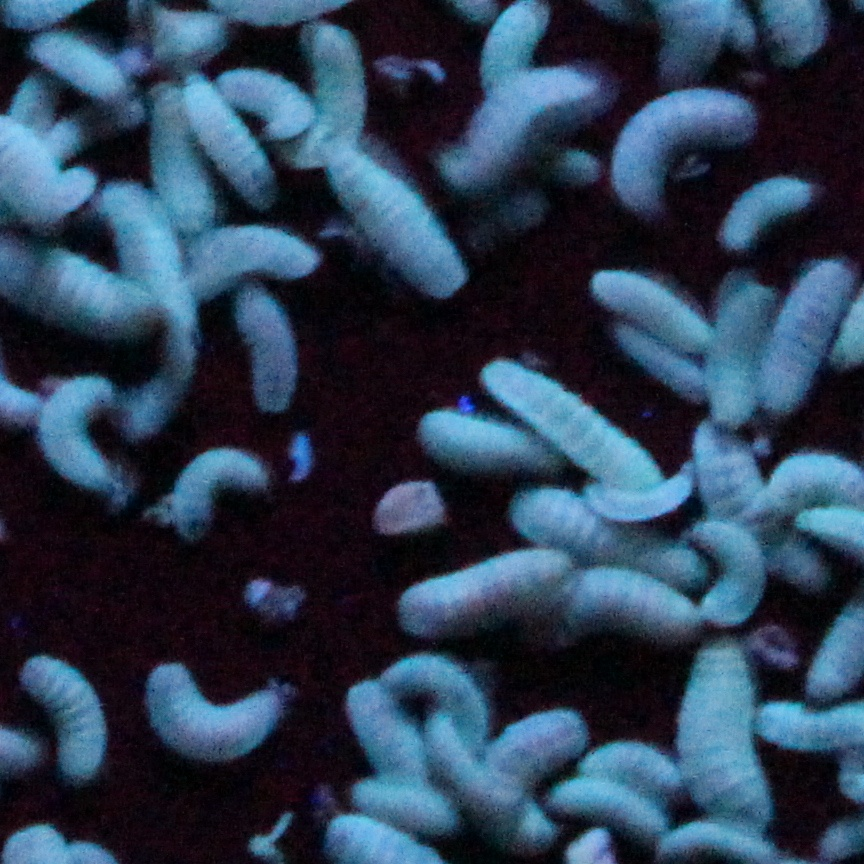larve: (495, 366, 654, 499), (341, 157, 465, 296), (455, 70, 579, 188), (690, 654, 776, 823), (624, 98, 743, 202), (520, 502, 682, 574), (762, 264, 849, 397), (126, 202, 175, 421), (407, 559, 561, 628), (156, 671, 276, 754), (192, 78, 275, 194), (507, 717, 580, 840), (697, 435, 767, 562), (43, 388, 118, 504), (300, 33, 363, 168), (33, 659, 105, 776), (572, 574, 699, 640), (708, 287, 759, 430), (594, 269, 689, 343), (181, 441, 255, 531), (237, 298, 294, 408), (135, 0, 222, 72), (718, 179, 808, 244), (165, 88, 206, 227), (32, 35, 128, 94), (362, 784, 466, 838), (190, 227, 314, 272), (359, 702, 430, 774), (408, 658, 485, 723), (446, 743, 513, 817), (430, 415, 525, 467), (620, 331, 697, 395), (589, 748, 684, 799), (703, 531, 753, 623), (562, 789, 658, 836), (243, 78, 314, 135), (51, 98, 147, 139), (594, 489, 679, 521)
